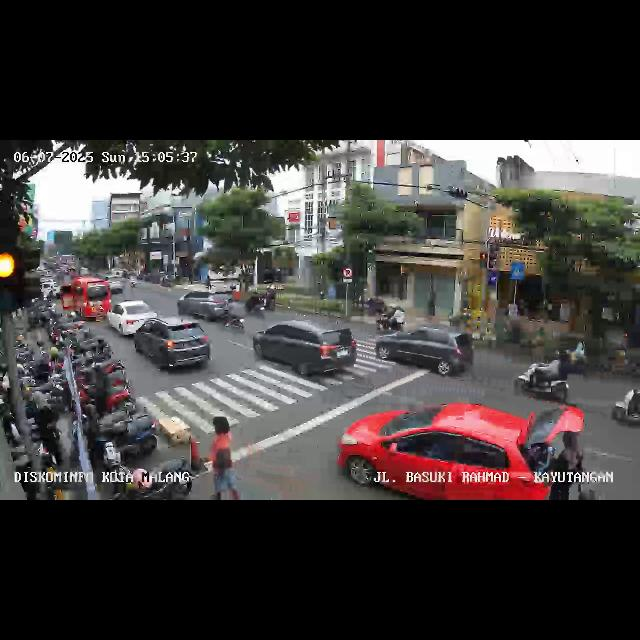car: (337, 402, 587, 500), (256, 318, 360, 386), (376, 324, 472, 378), (134, 316, 213, 374), (59, 278, 110, 322), (107, 300, 159, 338), (175, 288, 227, 324)
motorcycle: (514, 345, 584, 403), (608, 380, 640, 436), (220, 296, 246, 332), (376, 304, 406, 334), (247, 289, 269, 317)
person: (204, 414, 240, 498), (550, 428, 588, 500)
